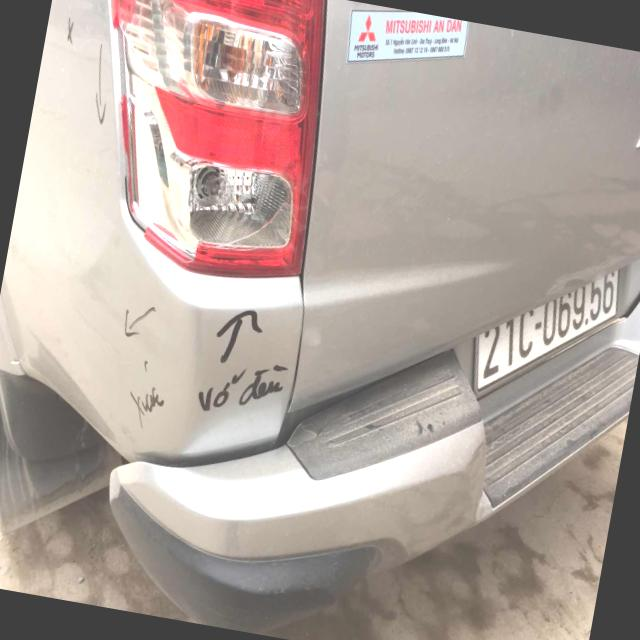Phare abime: (172, 154, 297, 271)
Rayure: (56, 298, 144, 377)
